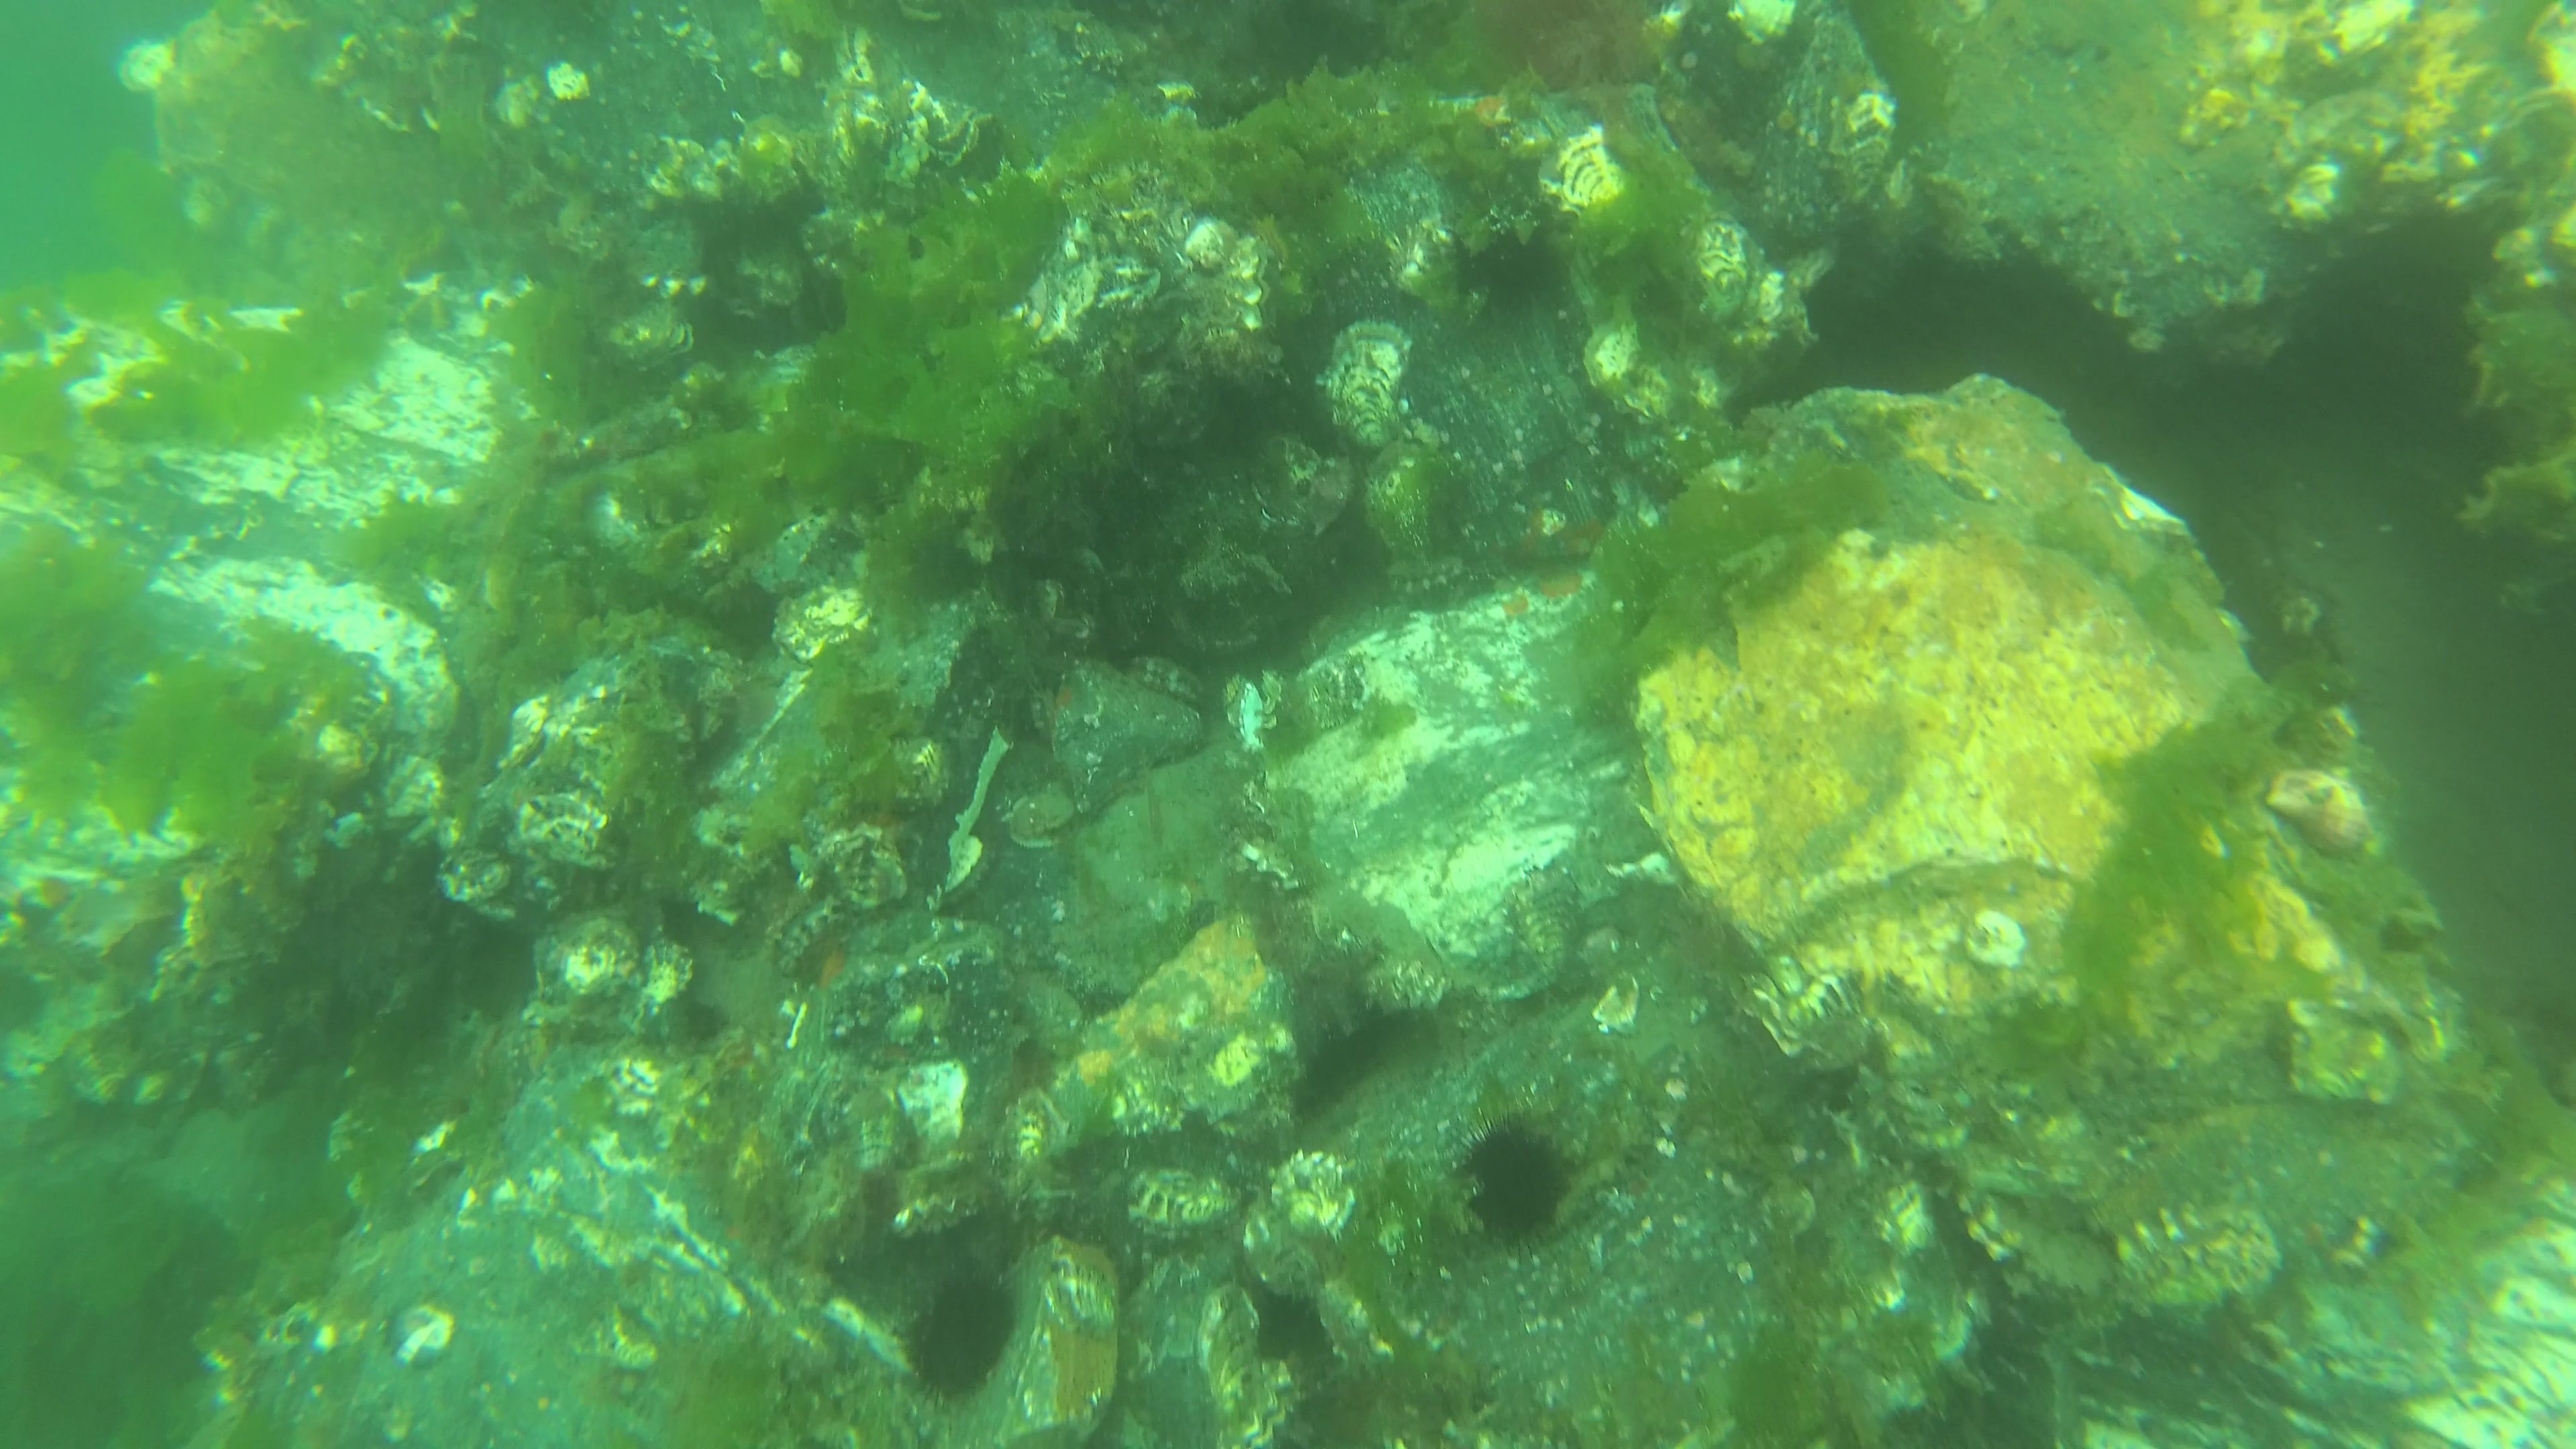echinus: (1460, 1123, 1576, 1242), (902, 1277, 1023, 1391), (1468, 230, 1552, 311), (725, 584, 778, 655)
